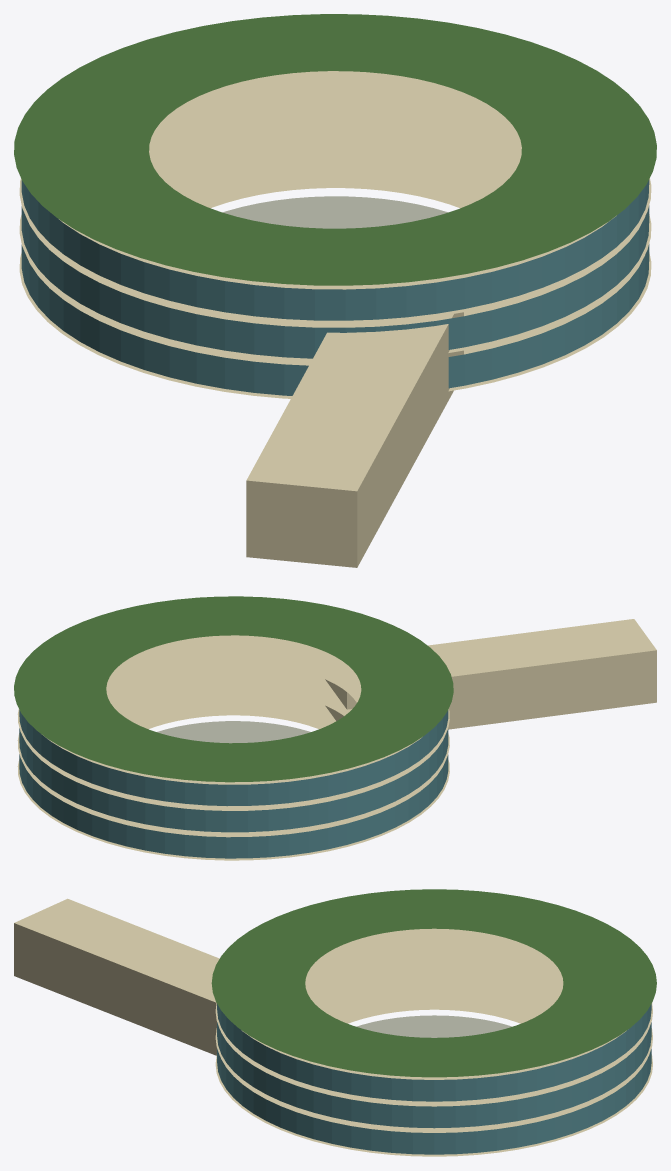
The picture shows the model from 3 angles, top to bottom: view 1: azimuth 30°, elevation 25°; view 2: azimuth 150°, elevation 25°; view 3: azimuth 270°, elevation 25°; orthographic projection. The views are drawn at different scales.
Parts seen in each view (by area): view 1: GreenRingRoof, ActivityFloors, ActivityGlass, SouthwestTail, InnerGarden; view 2: GreenRingRoof, ActivityGlass, ActivityFloors, SouthwestTail, InnerGarden; view 3: GreenRingRoof, ActivityGlass, ActivityFloors, SouthwestTail, InnerGarden.
Boxes of the visible parts, left/top/right/bottom form: GreenRingRoof: left=14, top=14, right=656, bottom=285; ActivityFloors: left=19, top=71, right=651, bottom=398; ActivityGlass: left=21, top=179, right=649, bottom=395; SouthwestTail: left=246, top=312, right=463, bottom=567; InnerGarden: left=222, top=196, right=447, bottom=228; GreenRingRoof: left=14, top=596, right=453, bottom=782; ActivityGlass: left=19, top=710, right=448, bottom=858; ActivityFloors: left=17, top=635, right=449, bottom=860; SouthwestTail: left=325, top=619, right=656, bottom=729; InnerGarden: left=157, top=721, right=310, bottom=743; GreenRingRoof: left=211, top=889, right=656, bottom=1077; ActivityGlass: left=217, top=1004, right=651, bottom=1154; ActivityFloors: left=215, top=928, right=652, bottom=1156; SouthwestTail: left=14, top=898, right=219, bottom=1055; InnerGarden: left=356, top=1015, right=511, bottom=1037.
Bounding box in the file's own units: 65.66 × 12.6 × 83.51.
